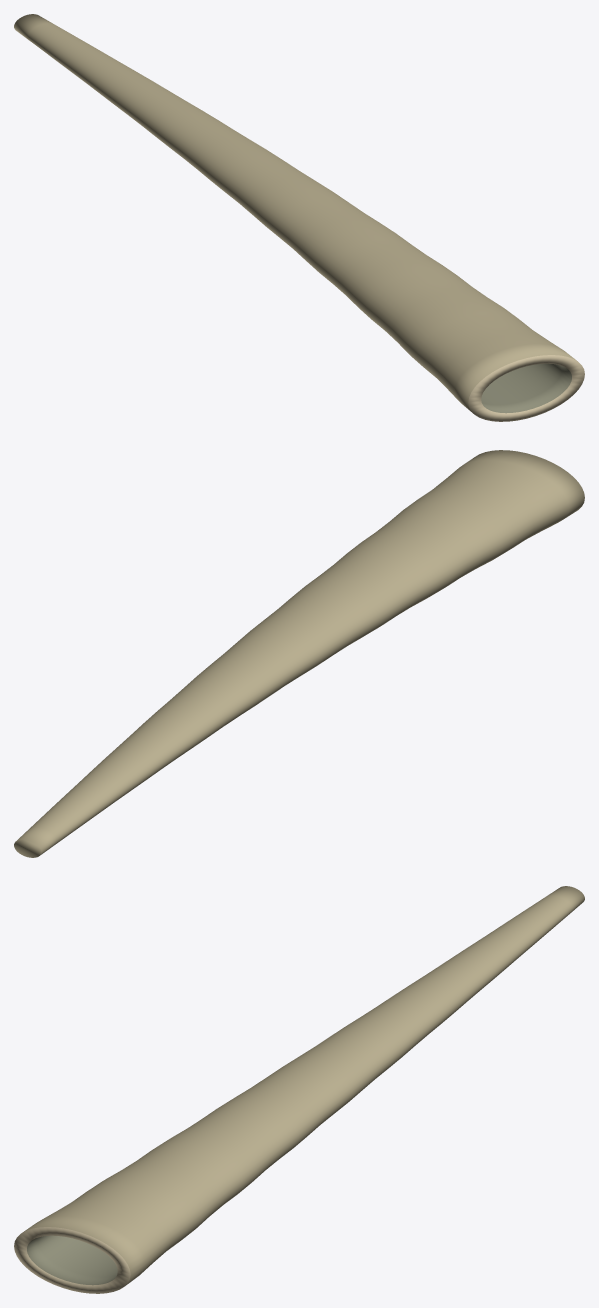
Rendered from baculites.glb.
3 renders of one model, top to bottom at view 1: azimuth 30°, elevation 25°; view 2: azimuth 150°, elevation 25°; view 3: azimuth 330°, elevation 25°, orthographic.
Visible parts, largest first — view 1: preserved-compressed-nearly-straight-shell-with-real-apertur; view 2: preserved-compressed-nearly-straight-shell-with-real-apertur; view 3: preserved-compressed-nearly-straight-shell-with-real-apertur.
Boxes of the visible parts, x1,y1,x2,y2 form: preserved-compressed-nearly-straight-shell-with-real-apertur: [14, 14, 584, 421]; preserved-compressed-nearly-straight-shell-with-real-apertur: [14, 450, 584, 857]; preserved-compressed-nearly-straight-shell-with-real-apertur: [14, 886, 584, 1293].
Bounding box in the file's own units: 0.0271 × 0.0135 × 0.2.
